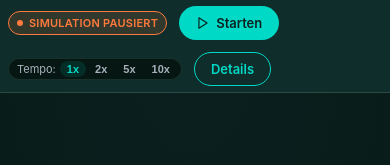
SimulationBar mobil › zeigt Steuerung immer, Details erst nach dem Aufklappen
Check: the button "Starten" is shown, box [179,6,279,40]
Check: the element named "Simulationsgeschwindigkeit" is shown, box [8,58,182,80]
Click the button "Details" at point(232, 69), box [194,52,271,86]
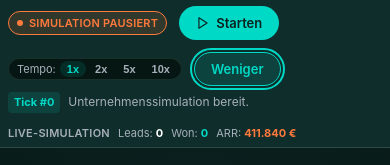
Check: the button "Weniger" is expanded, box [194,52,280,86]
